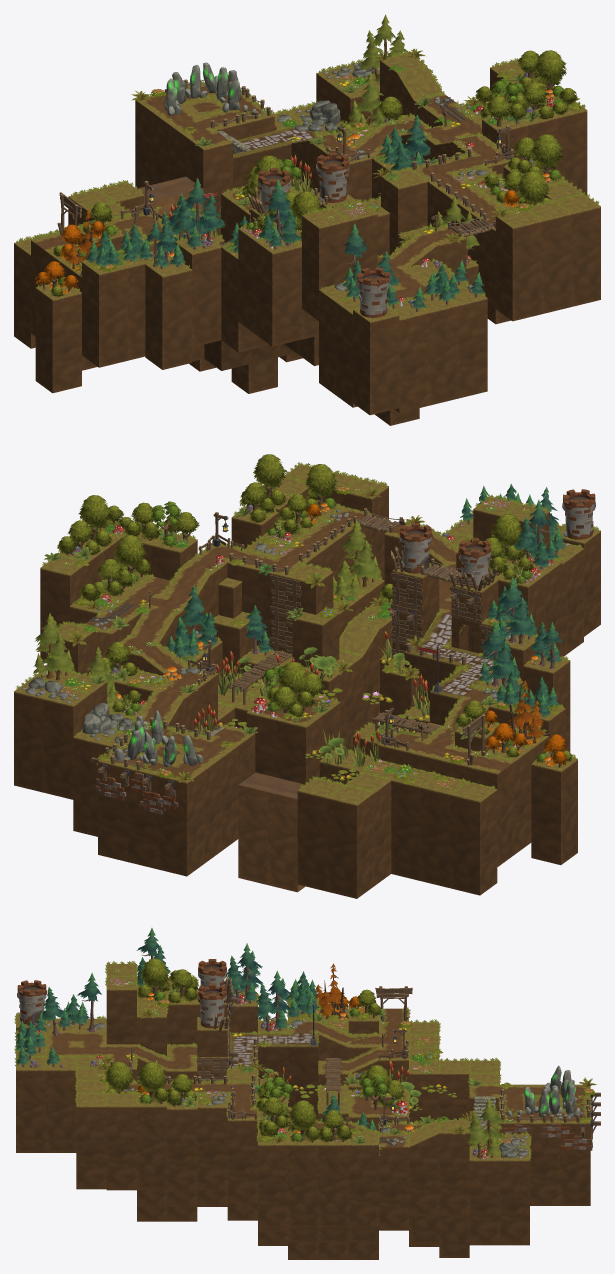
Rendered from cenaPrincipal.glb.
3 views of the same model, one above another, from view 1: azimuth 30°, elevation 25°; view 2: azimuth 150°, elevation 25°; view 3: azimuth 270°, elevation 25° (orthographic). The views are drawn at different scales.
Parts seen in each view (by area): view 1: Tile_1_A.078, Tile_1_A.154, Tile_1_A.144, Tile_1_A.161, Tile_1_A.159, Tile_1_A.006, Tile_1_A.087, Tile_1_A.128, Tile_1_A.127, Tile_1_A.003, Tile_1_A.164, Tile_1_A.005 (+58 smaller); view 2: Tile_1_A.084, Tile_1_A.075, Tile_1_A.144, Tile_1_G.003, Tile_1_A.074, Tile_1_A.073, Tile_Water1 (3).002, Tile_1_A.083, Tile_Water1 (3).001, Tile_1_A.082, Tile_1_A.111, Tile_1_C.014 (+80 smaller); view 3: Tile_1_A.128, Tile_1_A.129, Tile_1_A.107, Tile_1_A.001, Tile_1_A.076, Tile_1_A.004, Tile_1_C.030, Tile_1_A.126, Tile_1_C.021, Tile_1_A.163, Tile_Ramp1A (1), Tile_1_A.137 (+55 smaller).
Part boxes in pixels (bbox=[...]): Tile_1_A.078: bbox=[495, 209, 541, 321]; Tile_1_A.154: bbox=[145, 258, 191, 369]; Tile_1_A.144: bbox=[35, 282, 81, 393]; Tile_1_A.161: bbox=[255, 239, 301, 346]; Tile_1_A.159: bbox=[82, 260, 128, 367]; Tile_1_A.006: bbox=[353, 306, 399, 415]; Tile_1_A.087: bbox=[302, 209, 348, 320]; Tile_1_A.128: bbox=[555, 195, 600, 306]; Tile_1_A.127: bbox=[530, 202, 571, 313]; Tile_1_A.003: bbox=[413, 294, 458, 405]; Tile_1_A.164: bbox=[175, 235, 221, 347]; Tile_1_A.005: bbox=[388, 301, 428, 412]; Tile_1_A.084: bbox=[450, 783, 497, 895]; Tile_1_A.075: bbox=[327, 786, 373, 898]; Tile_1_A.144: bbox=[531, 752, 577, 864]; Tile_1_G.003: bbox=[157, 763, 203, 876]; Tile_1_A.074: bbox=[43, 687, 90, 799]; Tile_1_A.073: bbox=[297, 779, 342, 891]; Tile_Water1 (3).002: bbox=[238, 772, 284, 884]; Tile_1_A.083: bbox=[421, 776, 465, 887]; Tile_Water1 (3).001: bbox=[268, 779, 305, 892]; Tile_1_A.082: bbox=[391, 768, 435, 880]; Tile_1_A.111: bbox=[14, 680, 50, 792]; Tile_1_C.014: bbox=[276, 710, 322, 784]; Tile_1_A.128: bbox=[76, 1093, 106, 1189]; Tile_1_A.129: bbox=[106, 1093, 136, 1189]; Tile_1_A.107: bbox=[439, 1120, 469, 1215]; Tile_1_A.001: bbox=[46, 1057, 76, 1152]; Tile_1_A.076: bbox=[348, 1132, 378, 1227]; Tile_1_A.004: bbox=[16, 1057, 46, 1152]; Tile_1_C.030: bbox=[227, 1107, 257, 1203]; Tile_1_A.126: bbox=[197, 1094, 227, 1190]; Tile_1_C.021: bbox=[379, 1133, 408, 1229]; Tile_1_A.163: bbox=[469, 1147, 499, 1243]; Tile_Ramp1A (1): bbox=[409, 1121, 439, 1215]; Tile_1_A.137: bbox=[288, 1132, 318, 1227].
Bounding box in the file's own units: 34.78 × 17.28 × 38.81.
Materials: 87 (87 with a texture image).
